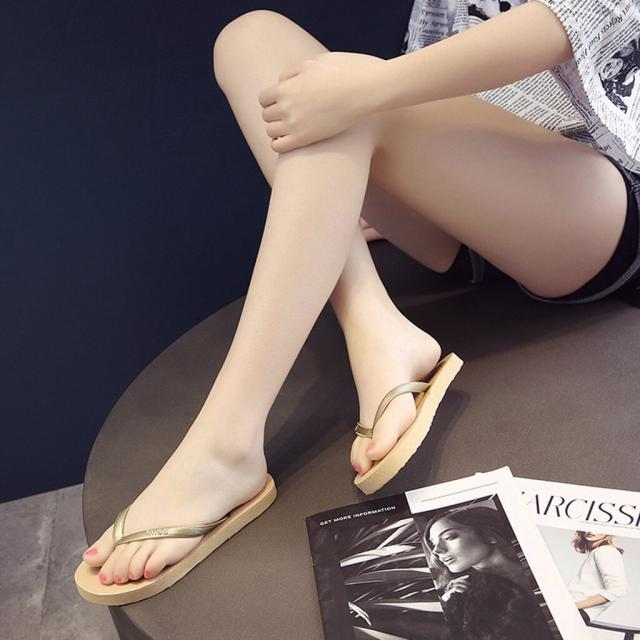Sandals: (75, 324, 477, 608)
